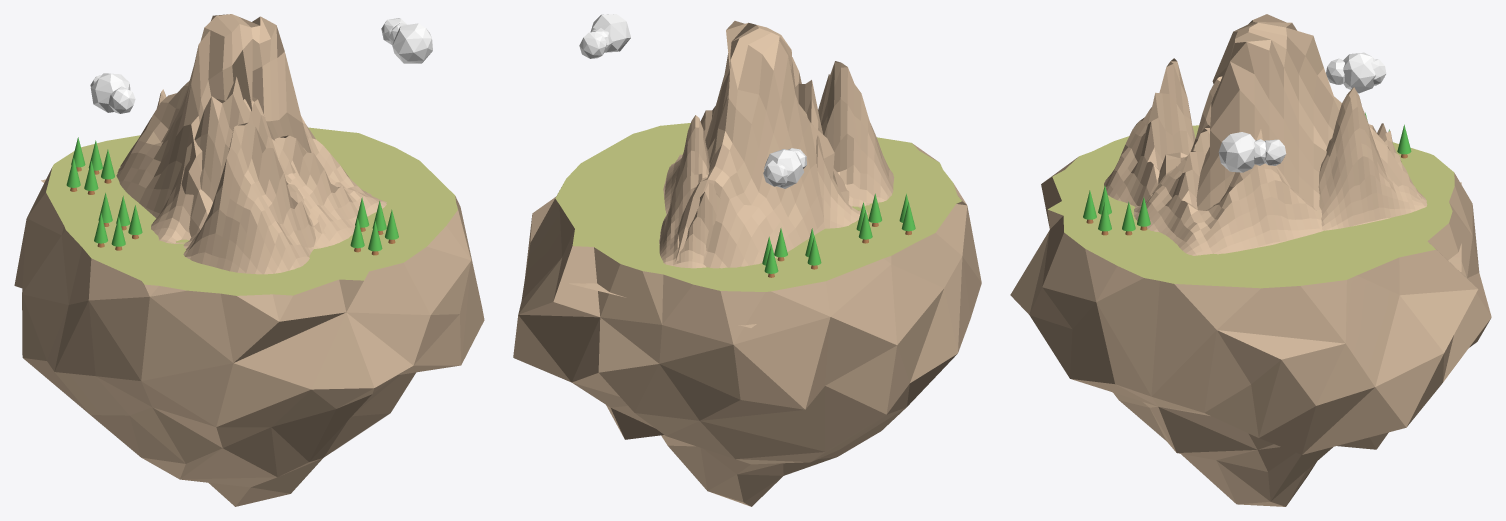
File: landscape.fbx
The picture shows the model from 3 angles, left to right: view 1: azimuth 30°, elevation 25°; view 2: azimuth 150°, elevation 25°; view 3: azimuth 270°, elevation 25°; orthographic projection. The views are drawn at different scales.
Visible parts, largest first — view 1: Sphere, Cube, Landscape_2, Landscape_4, Landscape_3, moon_thingy_10, moon_thingy_7, moon_thingy_5; view 2: Sphere, Cube, Landscape_4, Landscape_2, Landscape_1, moon_thingy_10, moon_thingy_7, Landscape_3, moon_thingy_9; view 3: Sphere, Cube, Landscape_4, Landscape_3, Landscape_1, Landscape_2, moon_thingy_10, moon_thingy_7.
Boxes of the visible parts, x1,y1,x2,y2 form: Sphere: [14, 167, 484, 506]; Cube: [46, 127, 457, 295]; Landscape_2: [151, 76, 315, 274]; Landscape_4: [41, 14, 325, 236]; Landscape_3: [274, 116, 386, 248]; moon_thingy_10: [392, 23, 432, 63]; moon_thingy_7: [90, 73, 130, 112]; moon_thingy_5: [108, 86, 135, 113]; Sphere: [513, 143, 981, 506]; Cube: [555, 123, 961, 291]; Landscape_4: [569, 21, 849, 327]; Landscape_2: [792, 57, 894, 228]; Landscape_1: [659, 115, 720, 268]; moon_thingy_10: [590, 14, 630, 52]; moon_thingy_7: [764, 149, 803, 188]; Landscape_3: [663, 106, 715, 214]; moon_thingy_9: [579, 32, 606, 58]; Sphere: [1010, 157, 1491, 506]; Cube: [1048, 125, 1454, 288]; Landscape_4: [1145, 14, 1461, 271]; Landscape_3: [1133, 125, 1323, 255]; Landscape_1: [1318, 87, 1427, 230]; Landscape_2: [1104, 58, 1222, 206]; moon_thingy_10: [1218, 132, 1255, 172]; moon_thingy_7: [1343, 52, 1375, 93].
Bounding box in the file's own units: 500 × 560 × 511.
